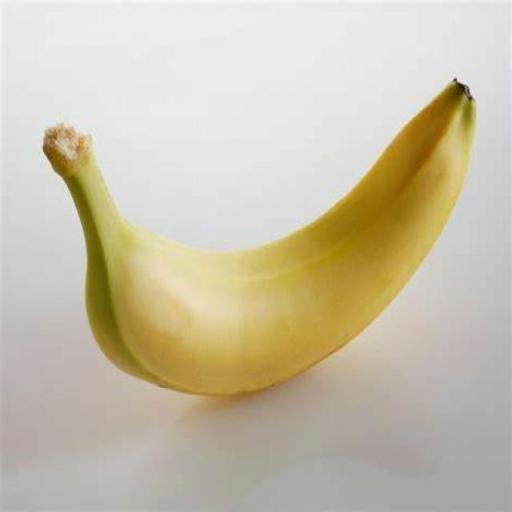fruit: (43, 81, 474, 395)
